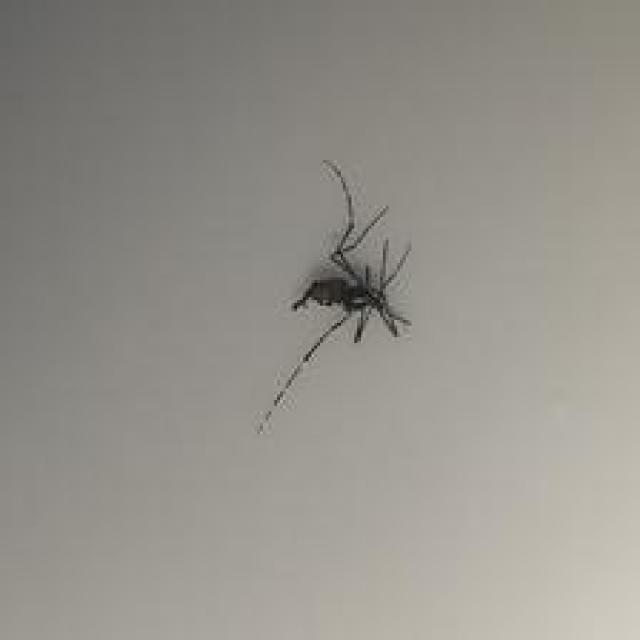Aedes albopictus: (255, 157, 414, 434)
